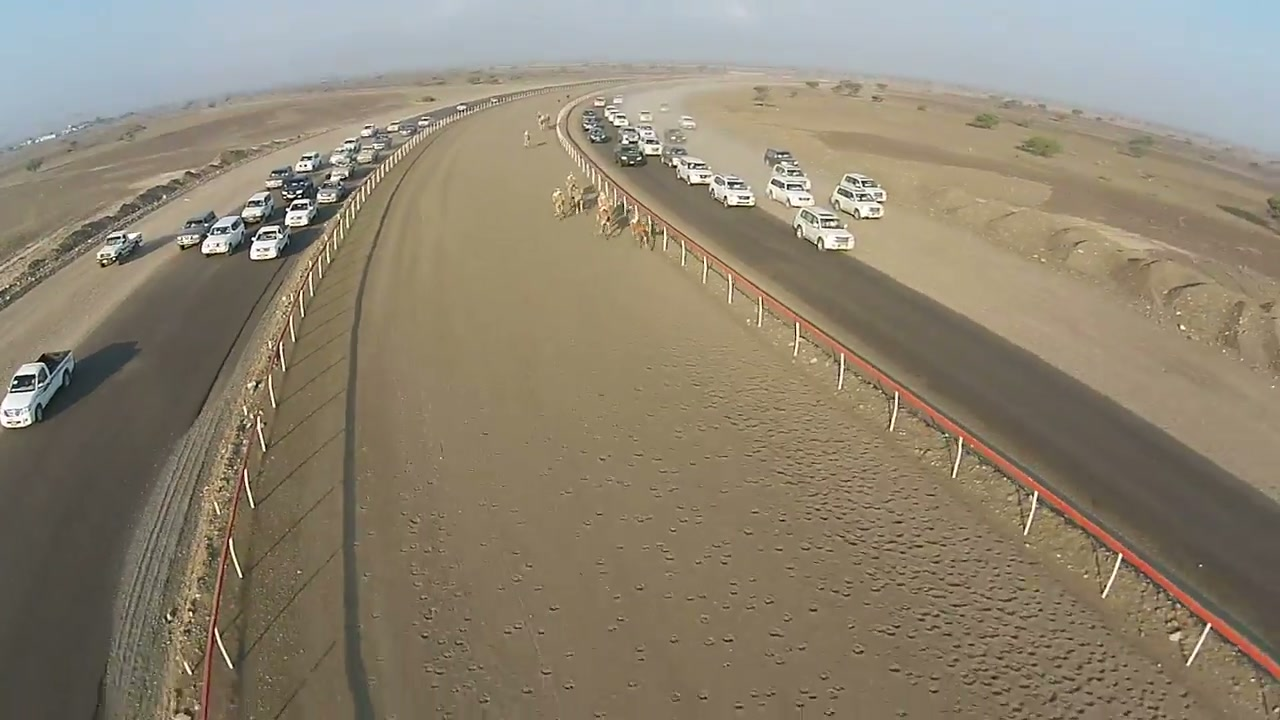animal_foot_print: (606, 278, 1191, 718), (569, 393, 968, 717)
